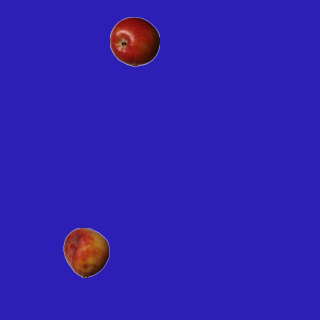Apple Braeburn: (109, 16, 159, 66)
Peach: (61, 227, 111, 277)
